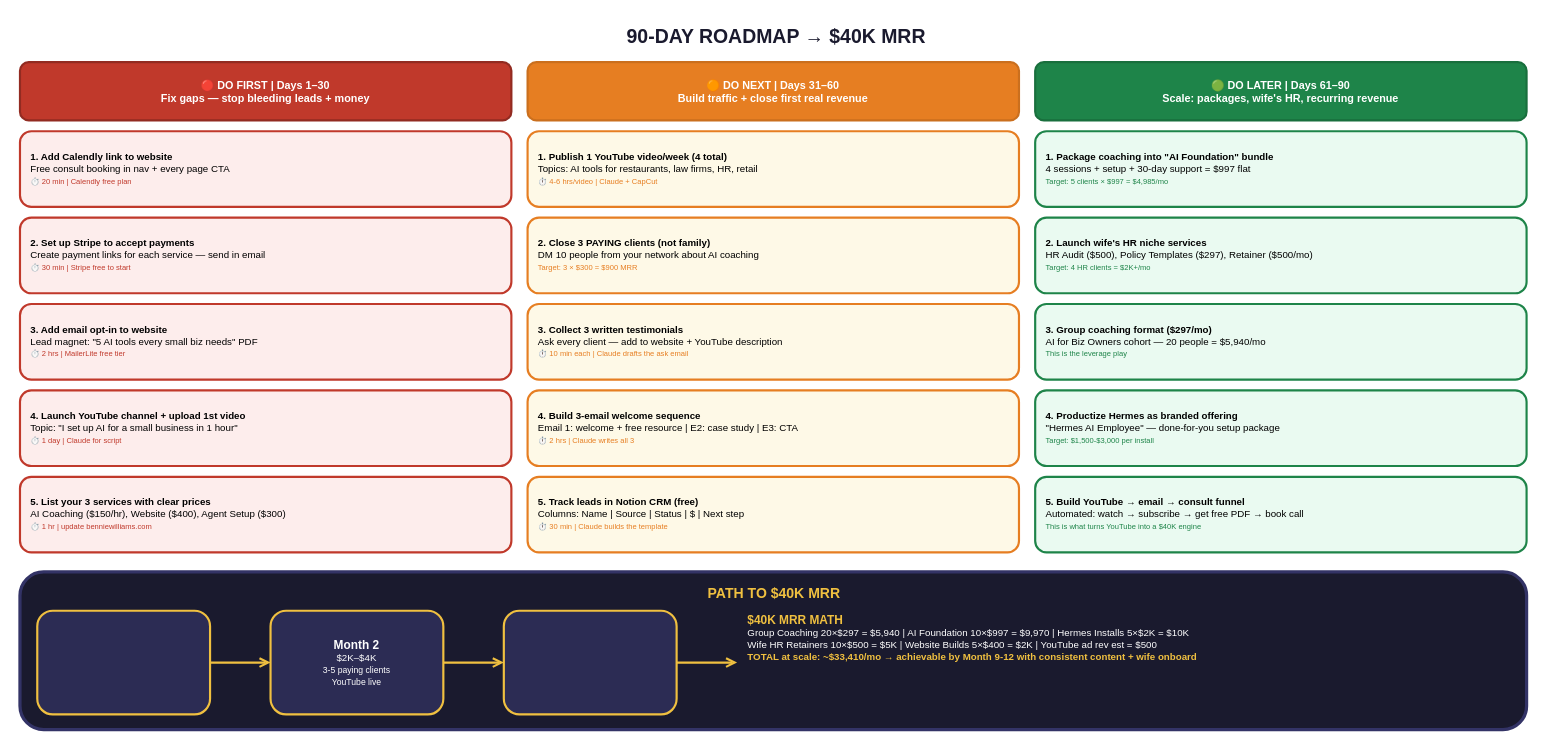
Some shapes in this 1551 by 750 pixel diagram are drawn without their labels. The shapes that lost their labels are listed below. From the top down, each one's centre as x and y in pixels, then its label:
At point (123, 662): "Month 1 $500–$1K First beta client Site fixed up".
At point (589, 662): "Month 3 $5K–$10K Packages launched Referrals flowing".
